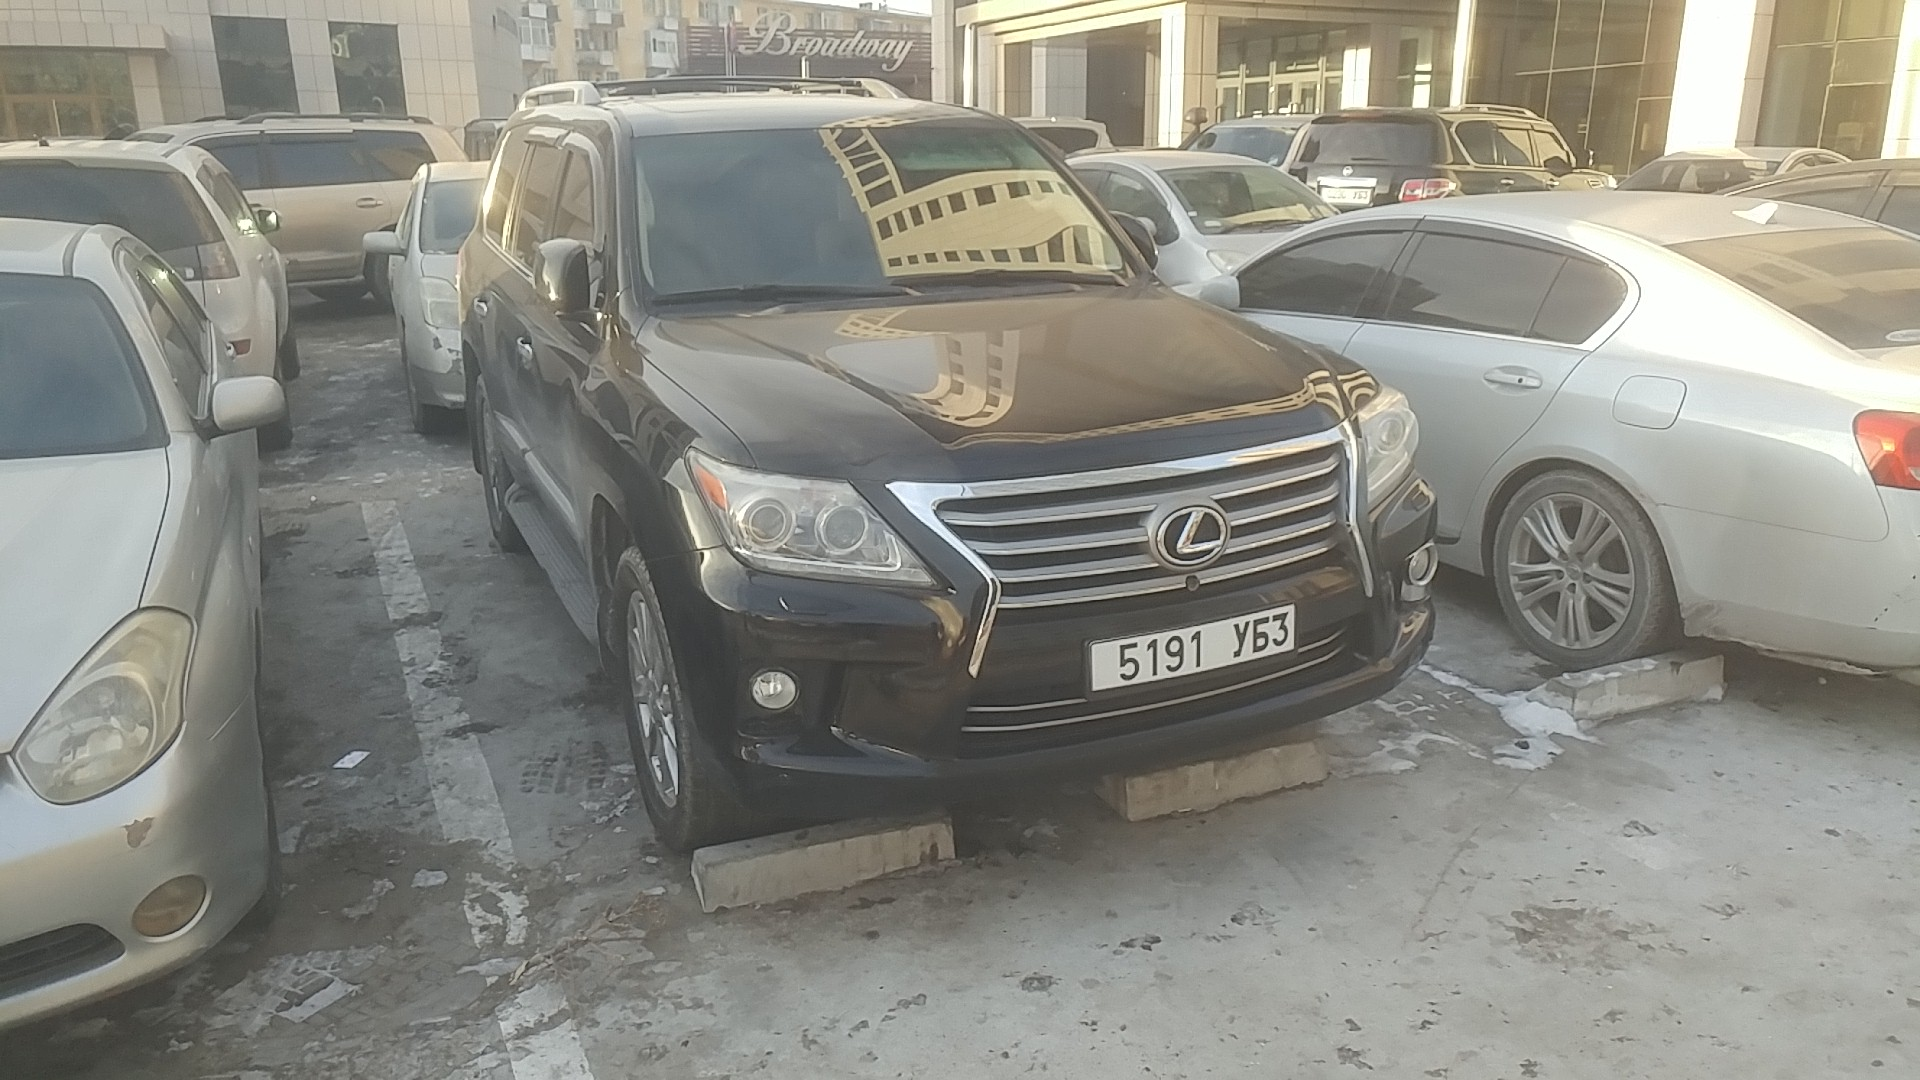1: (1146, 637, 1161, 676), (1189, 629, 1204, 669)
5: (1118, 641, 1141, 681)
9: (1163, 634, 1186, 673)
b: (1251, 615, 1271, 653)
plate: (1079, 595, 1305, 706)
u: (1231, 618, 1250, 658)
z: (1270, 611, 1289, 649)
